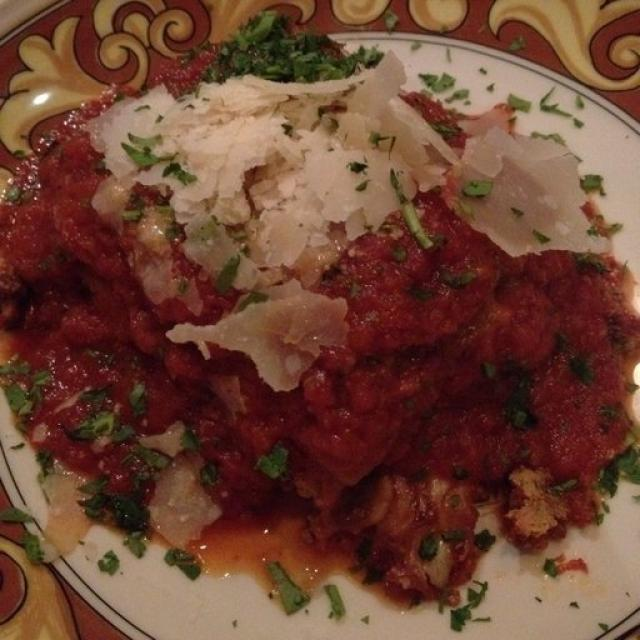Lasagna: (48, 115, 629, 595)
